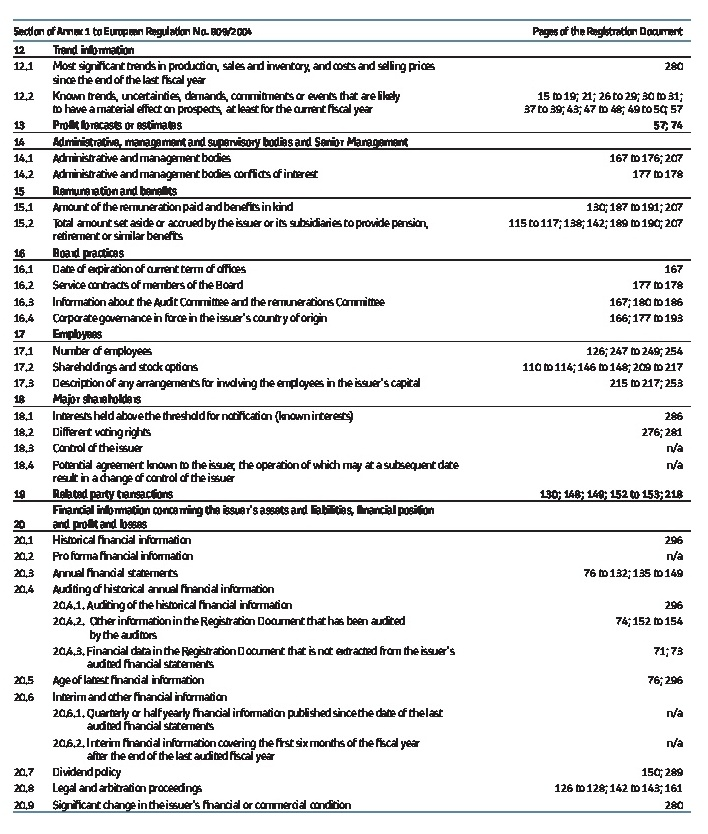table: (0, 0, 708, 834)
